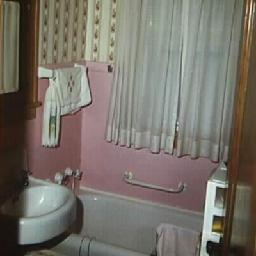Lavamanos: (9, 168, 77, 246)
Ventana: (113, 2, 228, 148)
